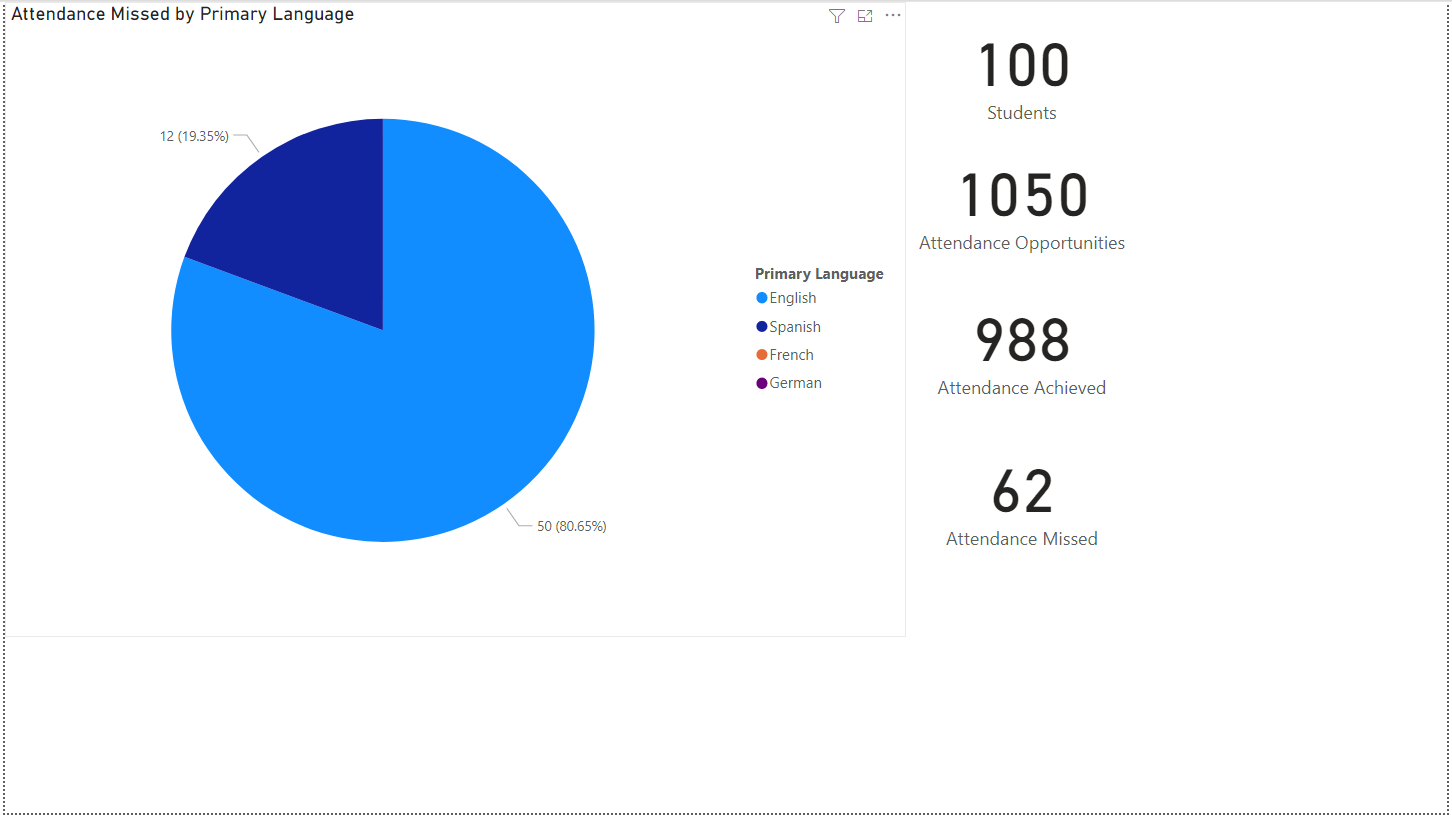

What the dashboard file says about the page in this screenshot:
{"tool":"powerbi","page":{"name":"Attendance and Language","canvas":[1280,720],"ordinal":1},"visuals":[{"type":"pieChart","fields":{"Y":["studentsectionperformance.Attendance Missed"],"Series":["demographics.PrimaryLanguage"]},"box":[0,0,799.6,563.9],"z":0},{"type":"card","fields":{"Values":["studentsectionperformance.Student Count"]},"box":[799.6,3,205.9,113.4],"z":1},{"type":"card","fields":{"Values":["studentsectionperformance.Attendance Opportunities"]},"box":[799.6,118.4,205.9,113.4],"z":2},{"type":"card","fields":{"Values":["studentsectionperformance.Attendance Achieved"]},"box":[799.6,246.7,205.9,113.4],"z":3},{"type":"card","fields":{"Values":["studentsectionperformance.Attendance Missed"]},"box":[799.6,380.9,205.9,113.4],"z":4}]}

Visuals, with their boxes in screenshot pixels (x1, y1, x2, y2), scaled from the page's 1280x720 canvas onto the 1452x815 screenshot:
pieChart - studentsectionperformance.Attendance Missed x demographics.PrimaryLanguage: box(0, 0, 907, 638)
card - studentsectionperformance.Student Count: box(907, 3, 1141, 132)
card - studentsectionperformance.Attendance Opportunities: box(907, 134, 1141, 262)
card - studentsectionperformance.Attendance Achieved: box(907, 279, 1141, 408)
card - studentsectionperformance.Attendance Missed: box(907, 431, 1141, 560)
